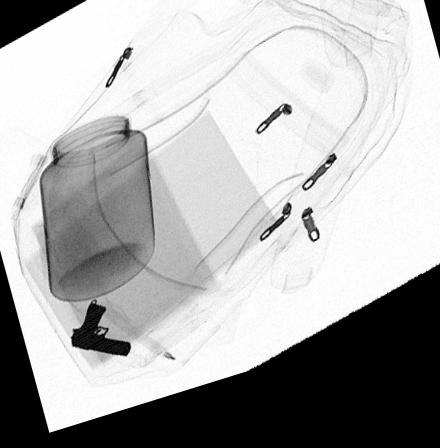Gun: (70, 305, 133, 364)
